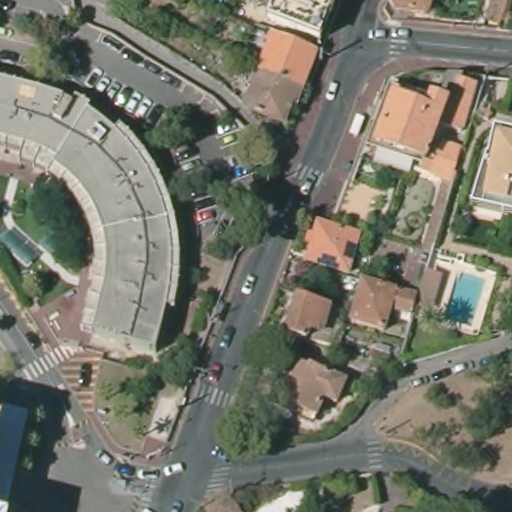pool: (447, 269, 486, 327)
